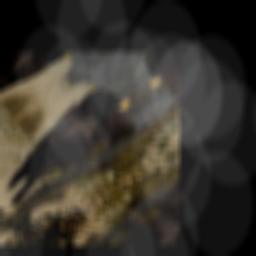Crow: (0, 77, 157, 228)
